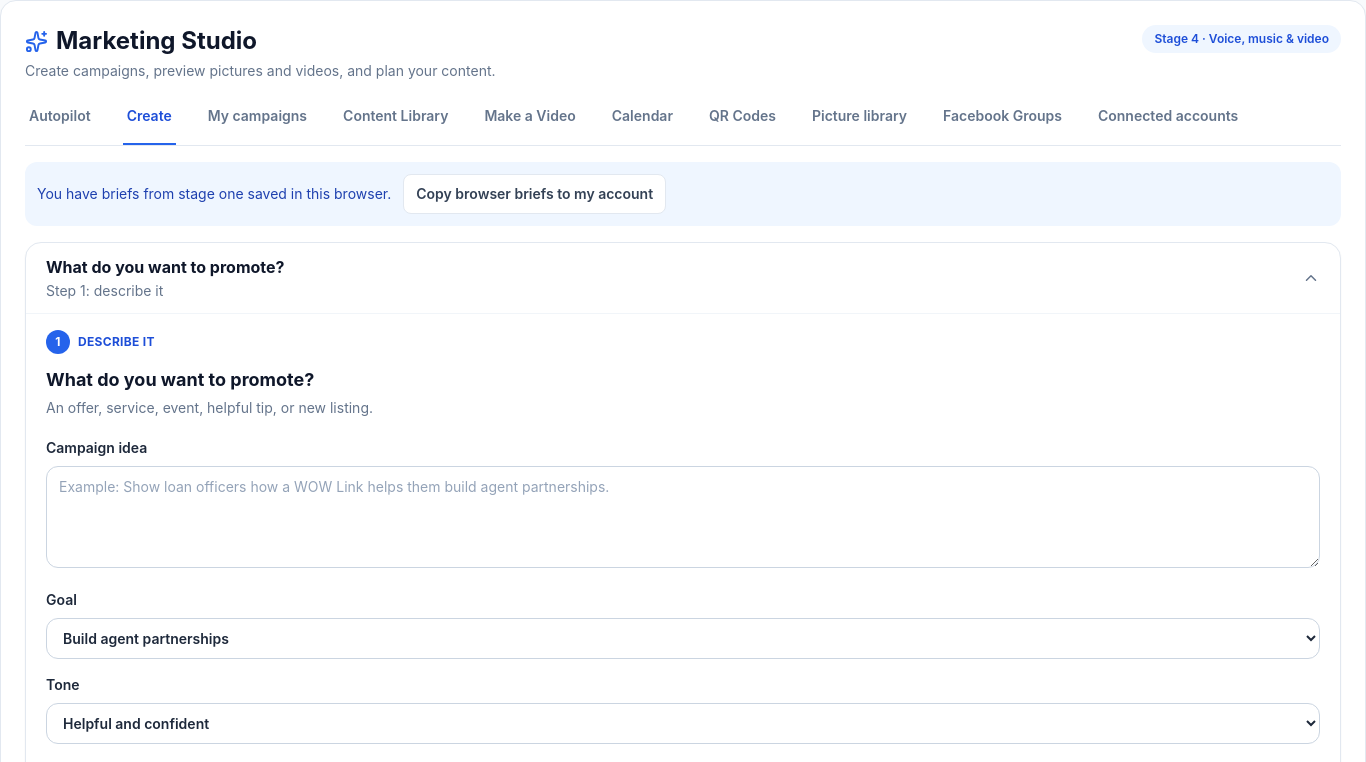
Test: copies old browser briefs only on request and keeps originals after copying
Step 1. Click the button "Copy browser briefs to my account" → (535, 194), box [403,174,666,214]
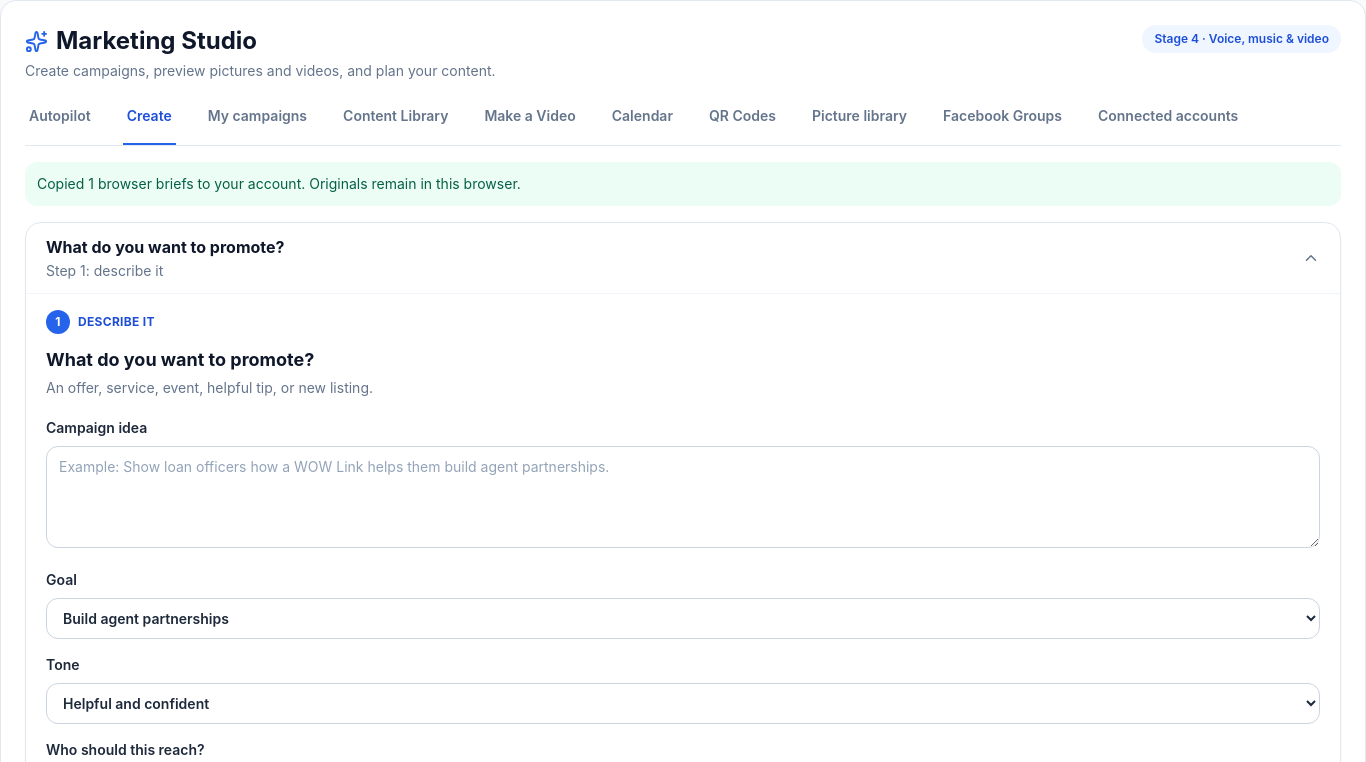
Result: the text "Copied 1 browser briefs to your account. Originals remain in this browser." is shown at [25,162,1341,206]
